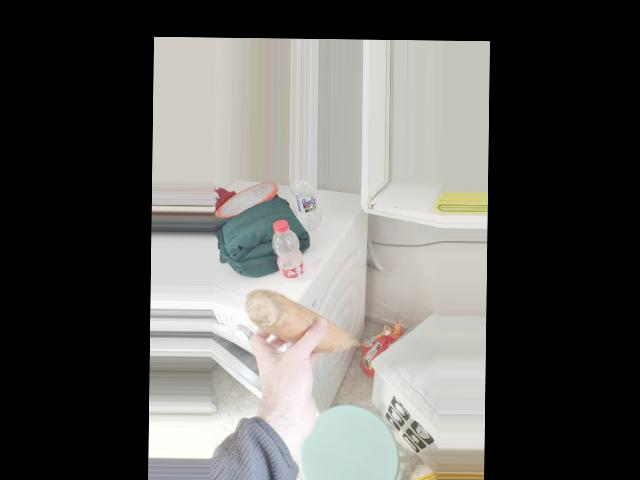sweet_potato: (251, 284, 350, 362)
